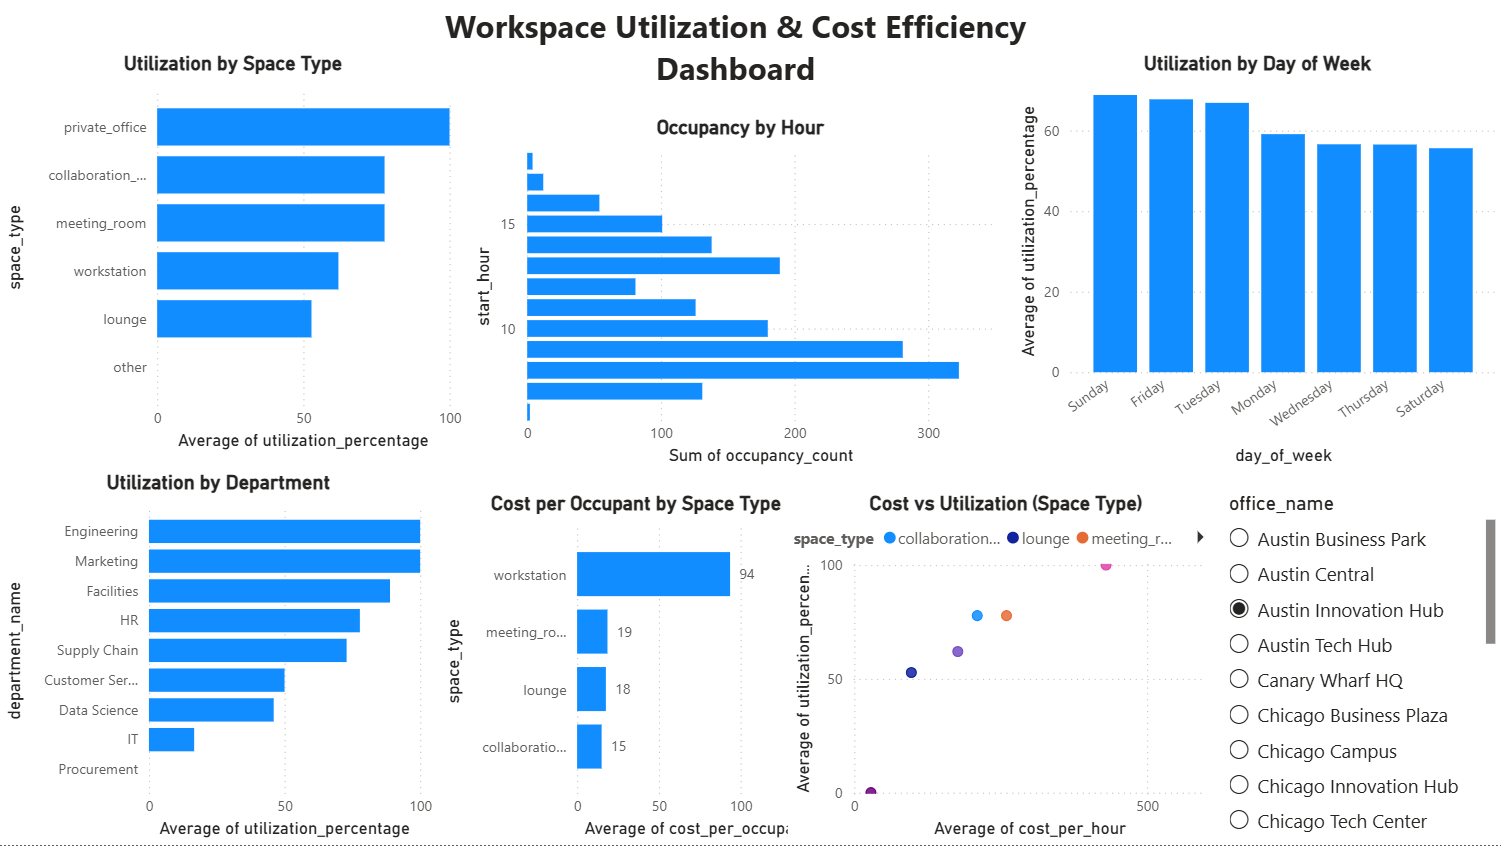

The page's visual inventory and layout, read from the dashboard file:
{"tool":"powerbi","page":{"name":"Page 1","canvas":[1280,720],"ordinal":0},"visuals":[{"type":"clusteredBarChart","title":"Utilization by Space Type","fields":{"Category":["Sheet1.space_type"],"Y":["Avg(Sheet1.utilization_percentage)"]},"box":[0,44.4,398.6,344.5],"z":0},{"type":"clusteredBarChart","title":"Utilization by Department","fields":{"Y":["Avg(Sheet1.utilization_percentage)"],"Category":["Sheet1.department_name"]},"box":[0,401.4,373.6,318.1],"z":1000},{"type":"clusteredBarChart","title":"Cost per Occupant by Space Type","fields":{"Category":["Sheet1.space_type"],"Y":["Avg(Sheet1.cost_per_occupant)"]},"box":[373.6,419.5,337.5,300],"z":2000},{"type":"barChart","title":"Occupancy by Hour","fields":{"Category":["Sheet1 (2).start_hour"],"Y":["Sum(Sheet1 (2).occupancy_count)"]},"box":[398.6,98.6,463.9,302.8],"z":4000},{"type":"columnChart","title":"Utilization by Day of Week","fields":{"Y":["Avg(Sheet1 (2).utilization_percentage)"],"Category":["Sheet1 (2).day_of_week"]},"box":[862.5,44.4,416.7,357],"z":5000},{"type":"listSlicer","fields":{"Values":["Sheet1.office_name"]},"box":[1041.7,419.5,237.5,300],"z":6000},{"type":"scatterChart","title":"Cost vs Utilization (Space Type)","fields":{"Y":["Avg(office_old.utilization_percentage)"],"X":["Avg(office_old.cost_per_hour)"],"Series":["office_old.space_type"]},"box":[670.8,419.5,370.8,300],"z":6001},{"type":"textbox","box":[373.6,0,507,87.5],"z":6003}]}

Visuals, with their boxes in screenshot pixels (x1, y1, x2, y2), scaled from the page's 1280x720 canvas onto the 1501x846 screenshot:
"Utilization by Space Type" clusteredBarChart: (left=0, top=52, right=467, bottom=457)
"Utilization by Department" clusteredBarChart: (left=0, top=472, right=438, bottom=845)
"Cost per Occupant by Space Type" clusteredBarChart: (left=438, top=493, right=834, bottom=845)
"Occupancy by Hour" barChart: (left=467, top=116, right=1011, bottom=472)
"Utilization by Day of Week" columnChart: (left=1011, top=52, right=1500, bottom=472)
listSlicer - Sheet1.office_name: (left=1222, top=493, right=1500, bottom=845)
"Cost vs Utilization (Space Type)" scatterChart: (left=787, top=493, right=1221, bottom=845)
textbox: (left=438, top=0, right=1033, bottom=103)
